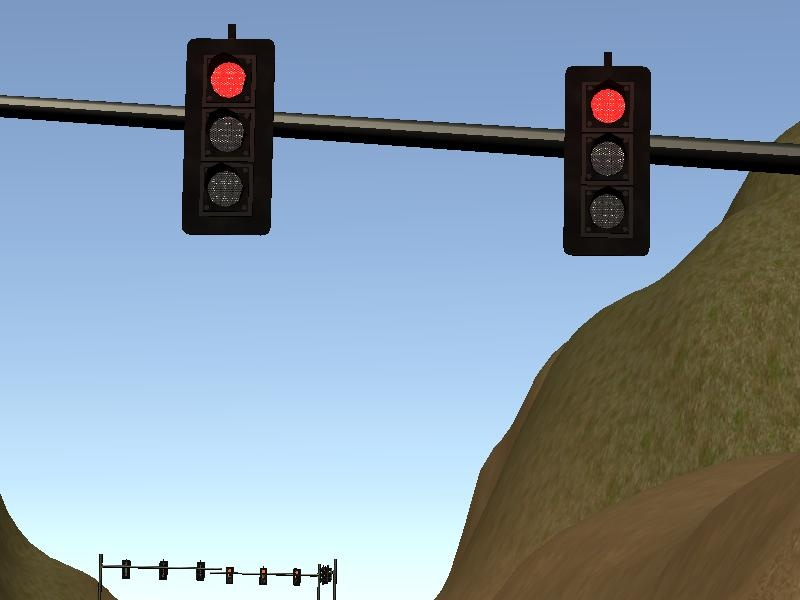red: (177, 27, 277, 242), (558, 57, 655, 265)
